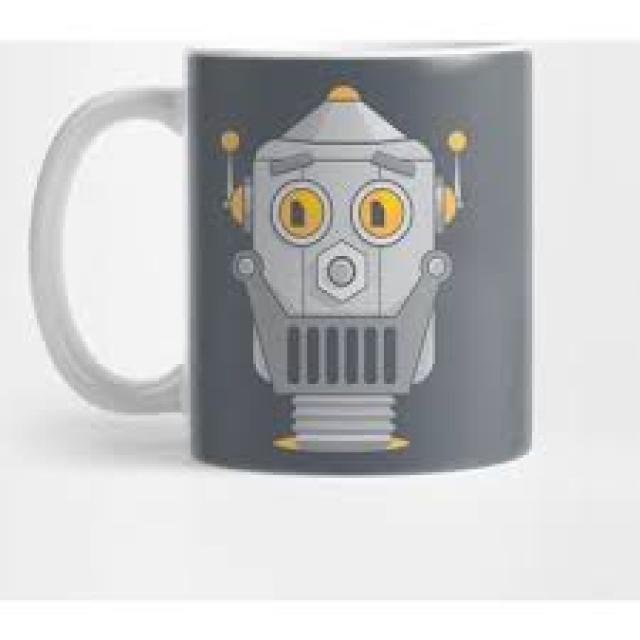taza: (29, 46, 532, 476)
